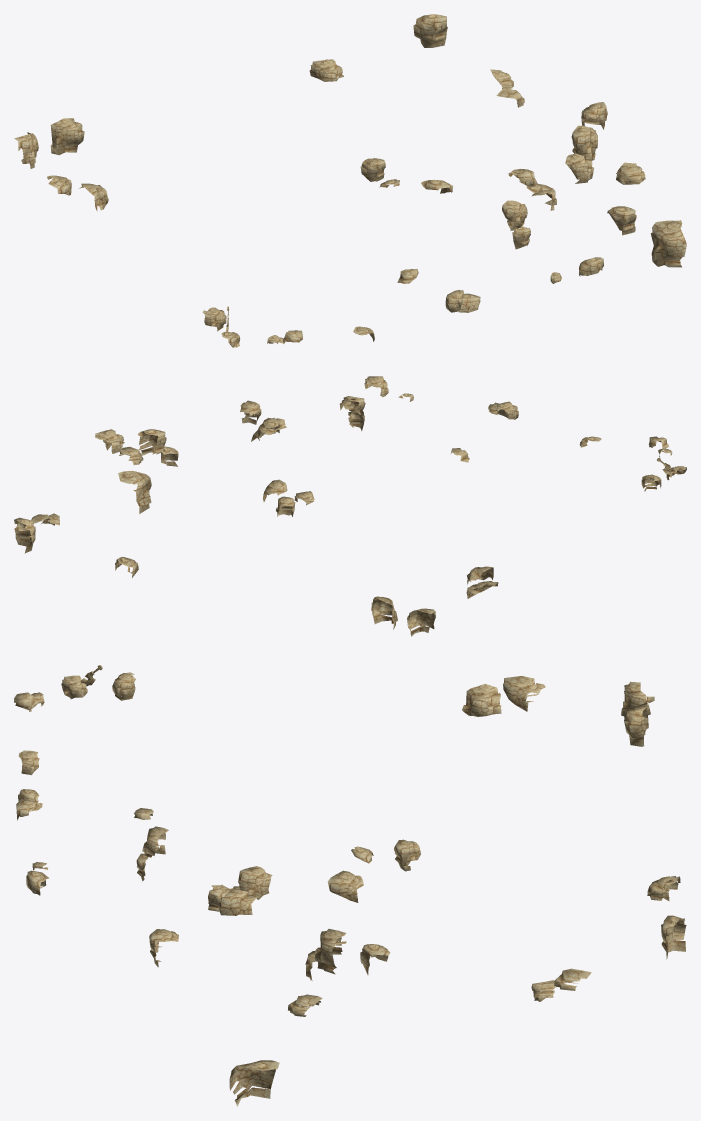
Rendered from S_Rock_Yellow057_A.FBX.
3 renders of one model, top to bottom at view 1: azimuth 30°, elevation 25°; view 2: azimuth 150°, elevation 25°; view 3: azimuth 270°, elevation 25°, orthographic. The views are drawn at different scales.
Visible parts, largest first — view 1: S_Rock_Yellow057_017, S_Rock_Yellow057_032, S_Rock_Yellow057_027, S_Rock_Yellow057_020, S_Rock_Yellow057_028, S_Rock_Yellow057_013, S_Rock_Yellow057_019, S_Rock_Yellow057_012, S_Rock_Yellow057_031, S_Rock_Yellow057_018, S_Rock_Yellow057_021; view 2: S_Rock_Yellow057_017, S_Rock_Yellow057_020, S_Rock_Yellow057_031, S_Rock_Yellow057_032, S_Rock_Yellow057_027, S_Rock_Yellow057_021; view 3: S_Rock_Yellow057_017, S_Rock_Yellow057_029, S_Rock_Yellow057_030, S_Rock_Yellow057_020, S_Rock_Yellow057_016, S_Rock_Yellow057_027, S_Rock_Yellow057_032, S_Rock_Yellow057_015, S_Rock_Yellow057_022.
Boxes of the visible parts, x1,y1,x2,y2 form: S_Rock_Yellow057_017: [650, 220, 686, 267]; S_Rock_Yellow057_032: [50, 118, 84, 155]; S_Rock_Yellow057_027: [413, 14, 447, 47]; S_Rock_Yellow057_020: [571, 125, 597, 161]; S_Rock_Yellow057_028: [309, 59, 343, 81]; S_Rock_Yellow057_013: [607, 206, 636, 235]; S_Rock_Yellow057_019: [565, 153, 594, 183]; S_Rock_Yellow057_012: [502, 200, 527, 230]; S_Rock_Yellow057_031: [14, 132, 38, 168]; S_Rock_Yellow057_018: [616, 162, 645, 184]; S_Rock_Yellow057_021: [581, 102, 607, 129]; S_Rock_Yellow057_017: [118, 470, 151, 513]; S_Rock_Yellow057_020: [138, 429, 166, 455]; S_Rock_Yellow057_031: [407, 608, 435, 636]; S_Rock_Yellow057_032: [371, 596, 397, 629]; S_Rock_Yellow057_027: [14, 517, 35, 553]; S_Rock_Yellow057_021: [95, 429, 124, 453]; S_Rock_Yellow057_017: [229, 1060, 279, 1106]; S_Rock_Yellow057_029: [462, 684, 501, 716]; S_Rock_Yellow057_030: [503, 676, 545, 711]; S_Rock_Yellow057_020: [315, 929, 346, 974]; S_Rock_Yellow057_016: [238, 866, 272, 899]; S_Rock_Yellow057_027: [661, 915, 686, 959]; S_Rock_Yellow057_032: [624, 702, 648, 746]; S_Rock_Yellow057_015: [219, 886, 256, 915]; S_Rock_Yellow057_022: [327, 870, 363, 902].
Bounding box in the file's own units: 19393 × 4789 × 17952.
